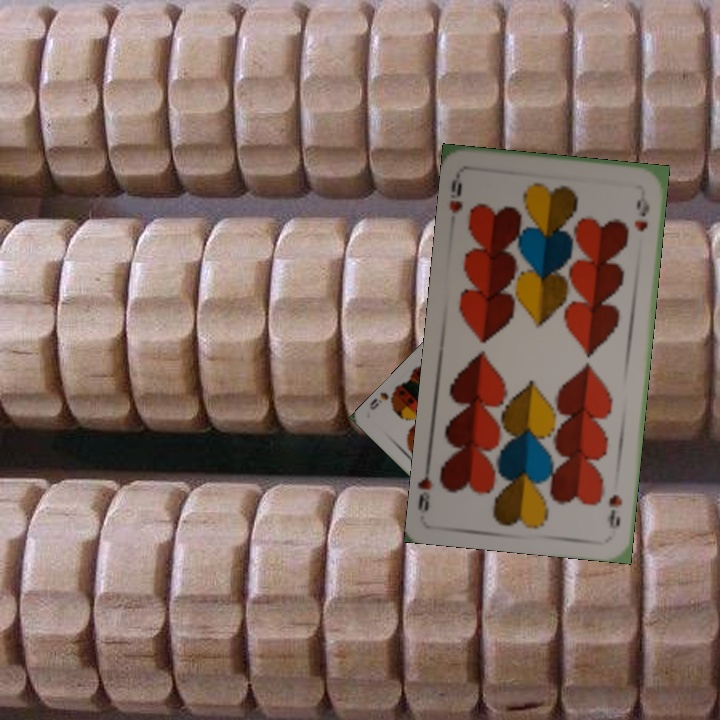H9: (445, 170, 466, 216), (604, 491, 625, 531)
